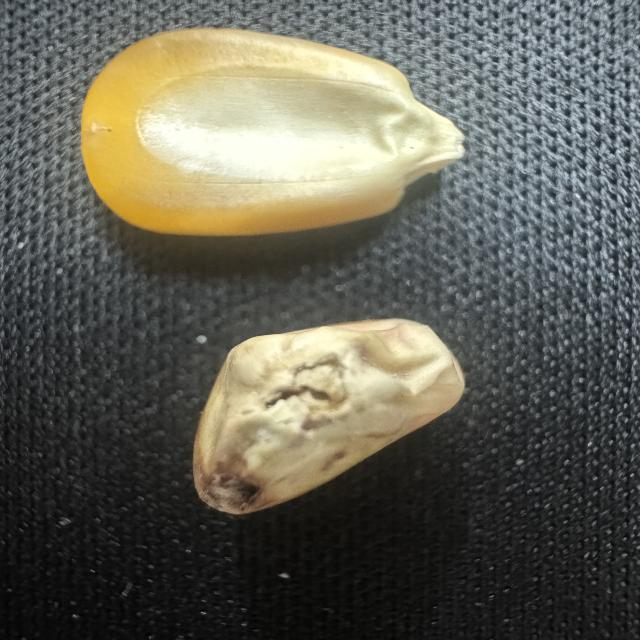Bad-Seed: (170, 306, 478, 520)
Good-Seed: (72, 21, 475, 248)
